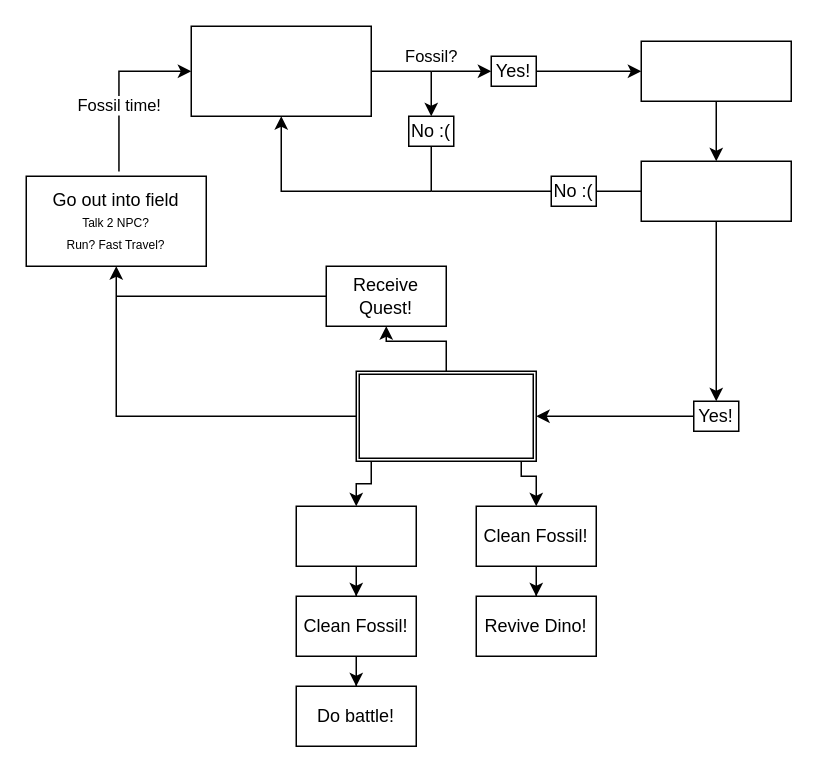
This 818x773 diagram has some shape labels left out. The shapes that lost their labels are listed below. From the top down, each one's centre as x and y in pixels, then its label:
At (x=280, y=70): "Scan for fossils".
At (x=715, y=70): "Dig it up!".
At (x=715, y=190): "Have enough Fossils?".
At (x=445, y=415): "Return to Town".
At (x=355, y=535): "Level-up battle!".
